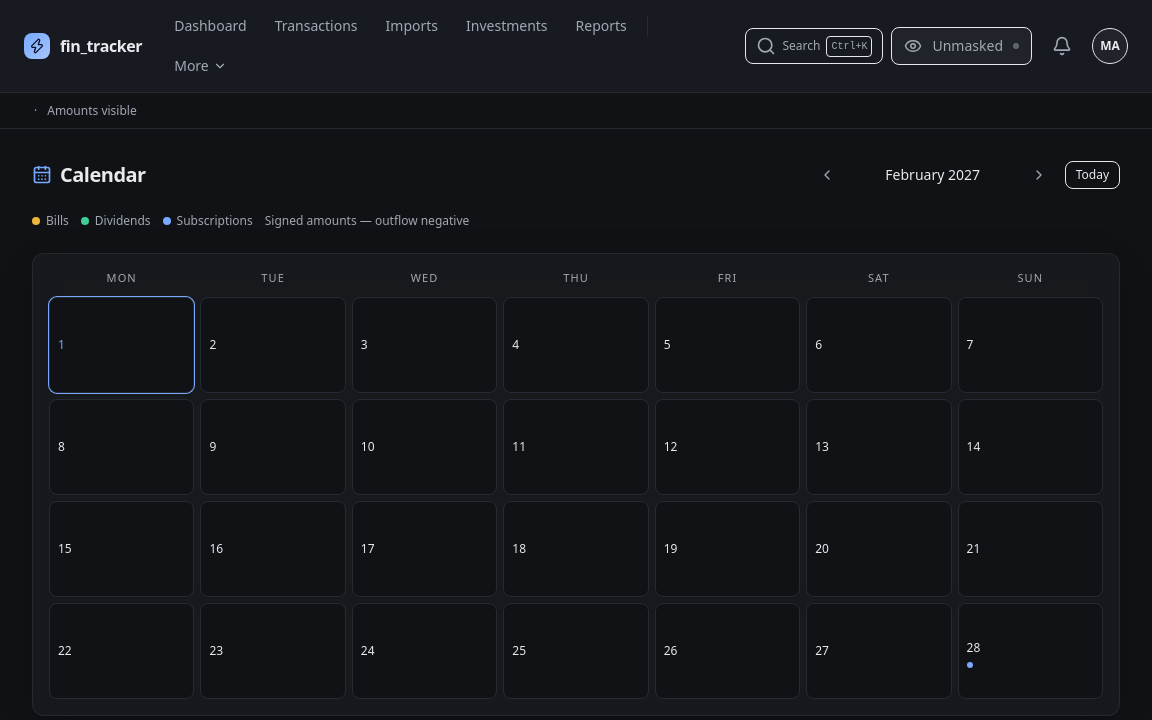
Test case: R1 — month-end × currency, unmasked (the captured payload, rendered) › draws a 28-cell February with the group on the 28th, stating USD
What coordinates should you click on to do the following:
click the button "28"
I would click on:
 (1030, 650)
Its box is [958,602,1103,698].
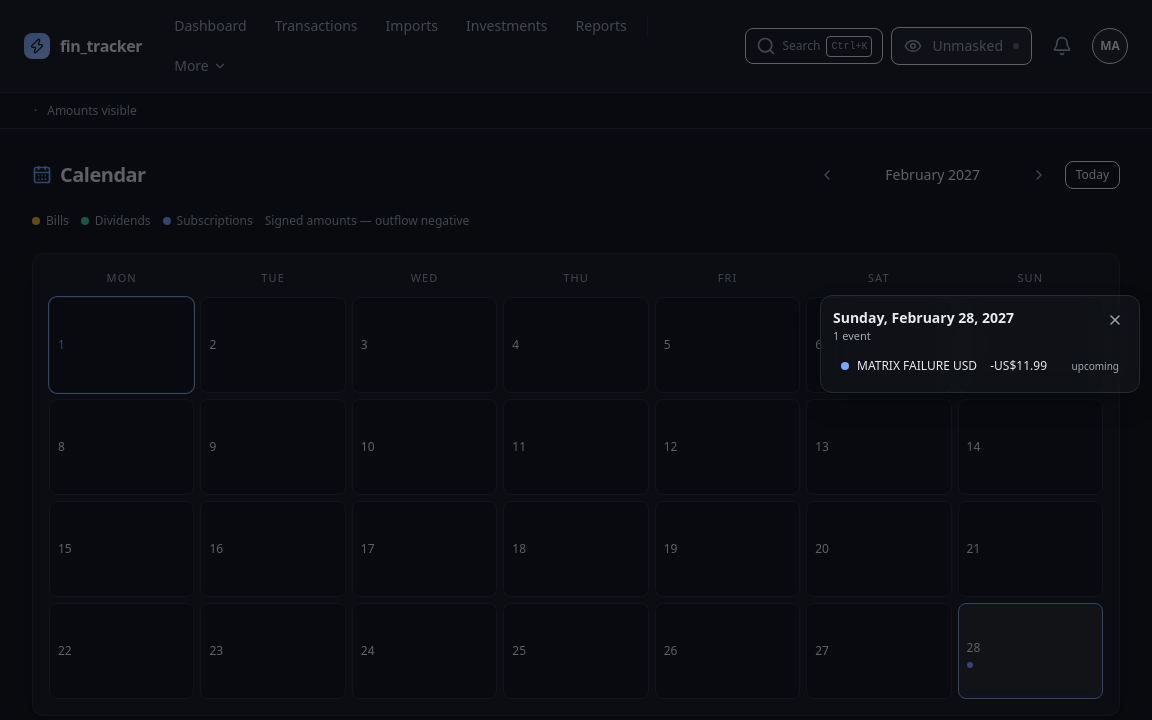
Now the dialog with test id "calendar-popover" is shown, box [820,294,1140,393]
Now the text "MATRIX FAILURE USD" is shown, box [857,358,982,374]
Now the text "upcoming" is shown, box [1072,358,1119,372]
